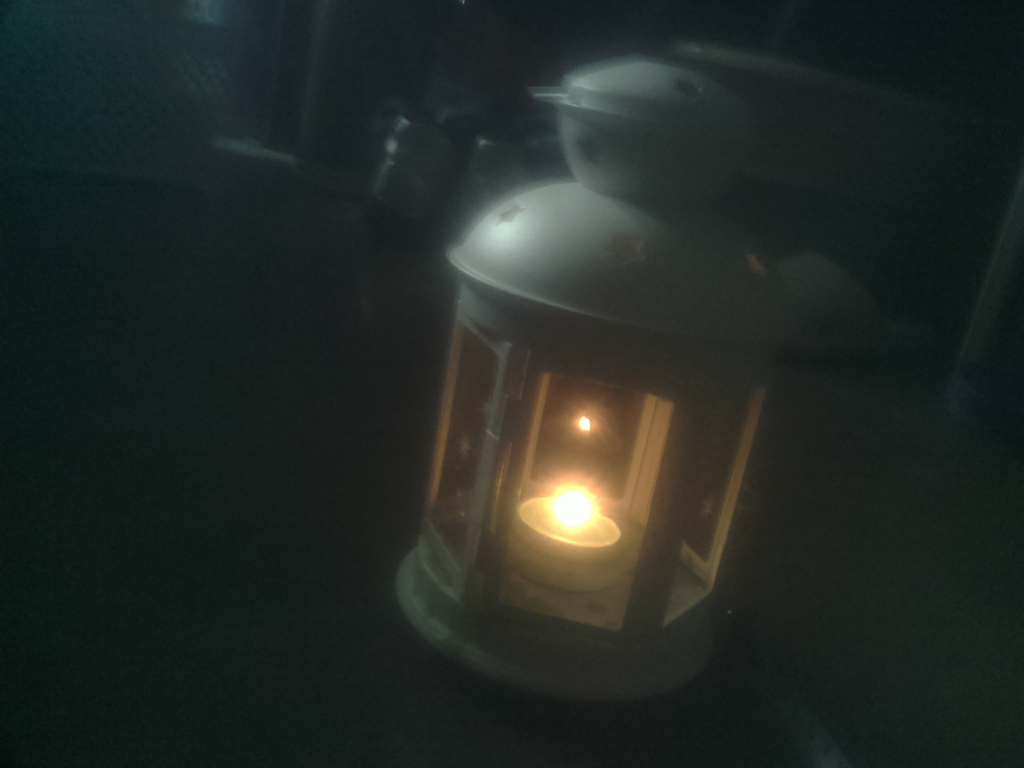fire: (514, 451, 622, 573)
